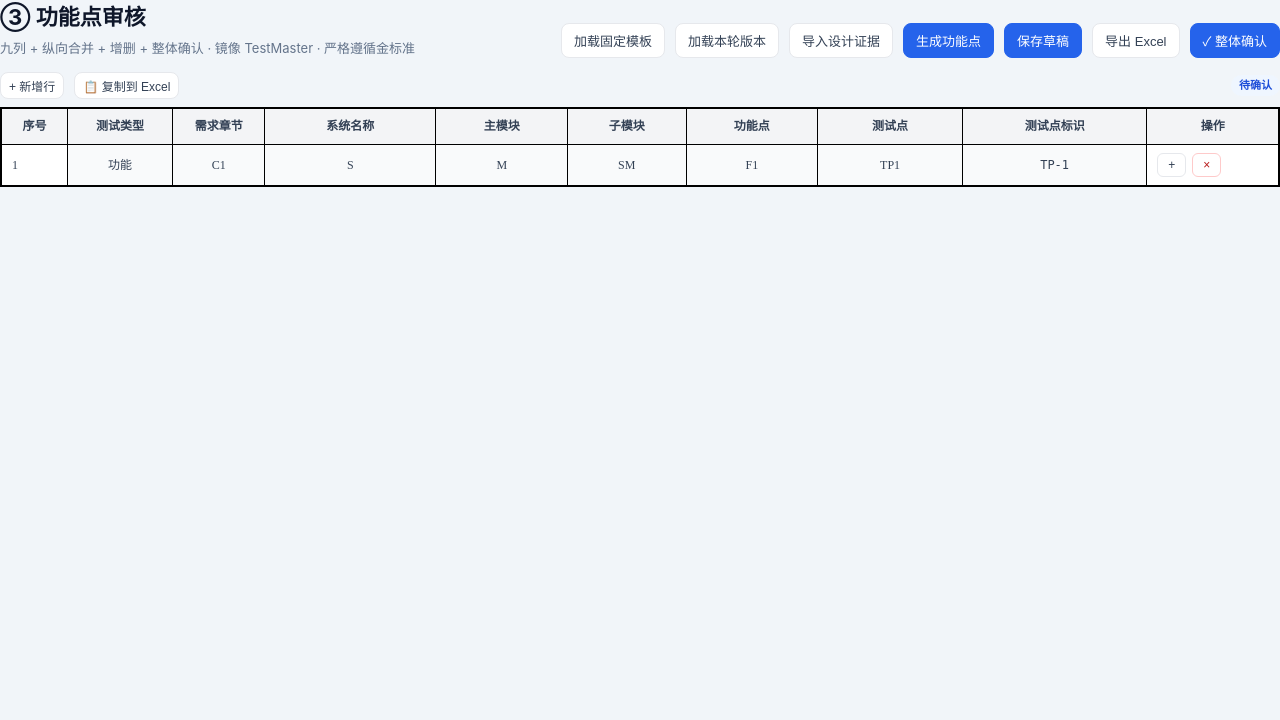
Test: Feature 功能点审核 › 点击删除行应弹出确认对话框
Step 1. Click the button "×" → x=1207, y=165, box [1192,153,1221,177]
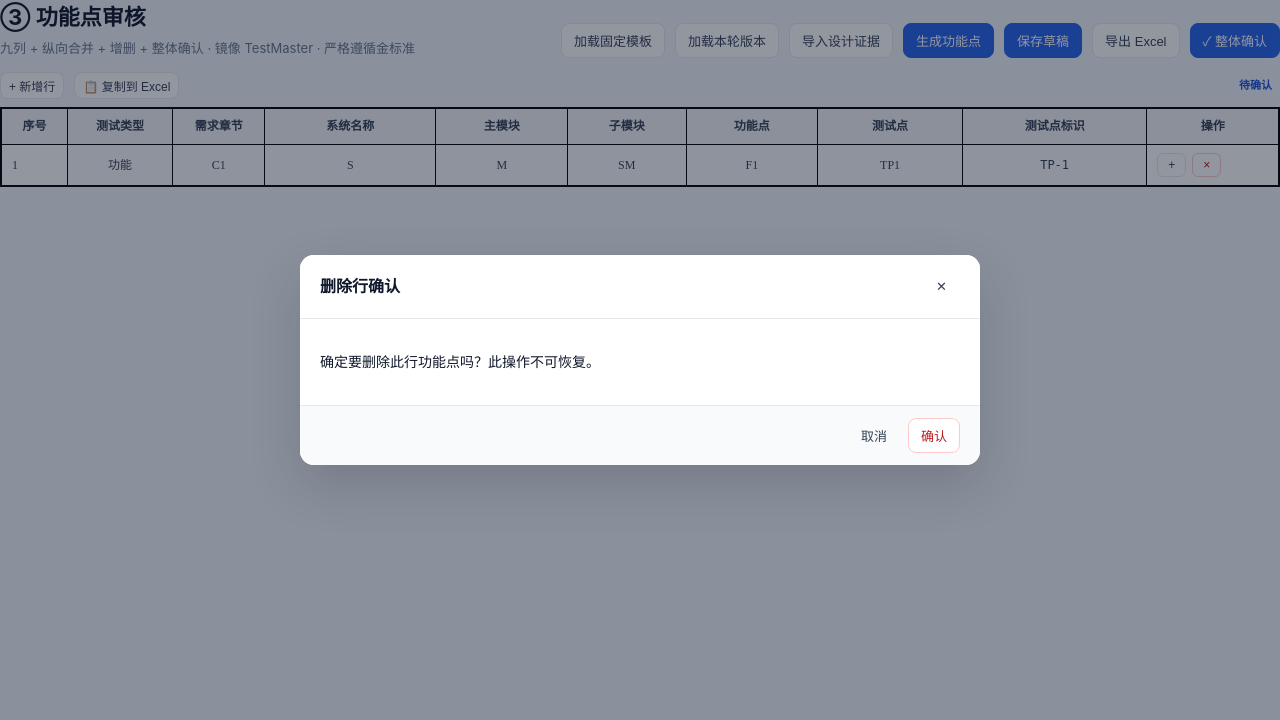
Now the text "确定要删除此行功能点吗？此操作不可恢复。" is shown, box [320,353,600,370]
